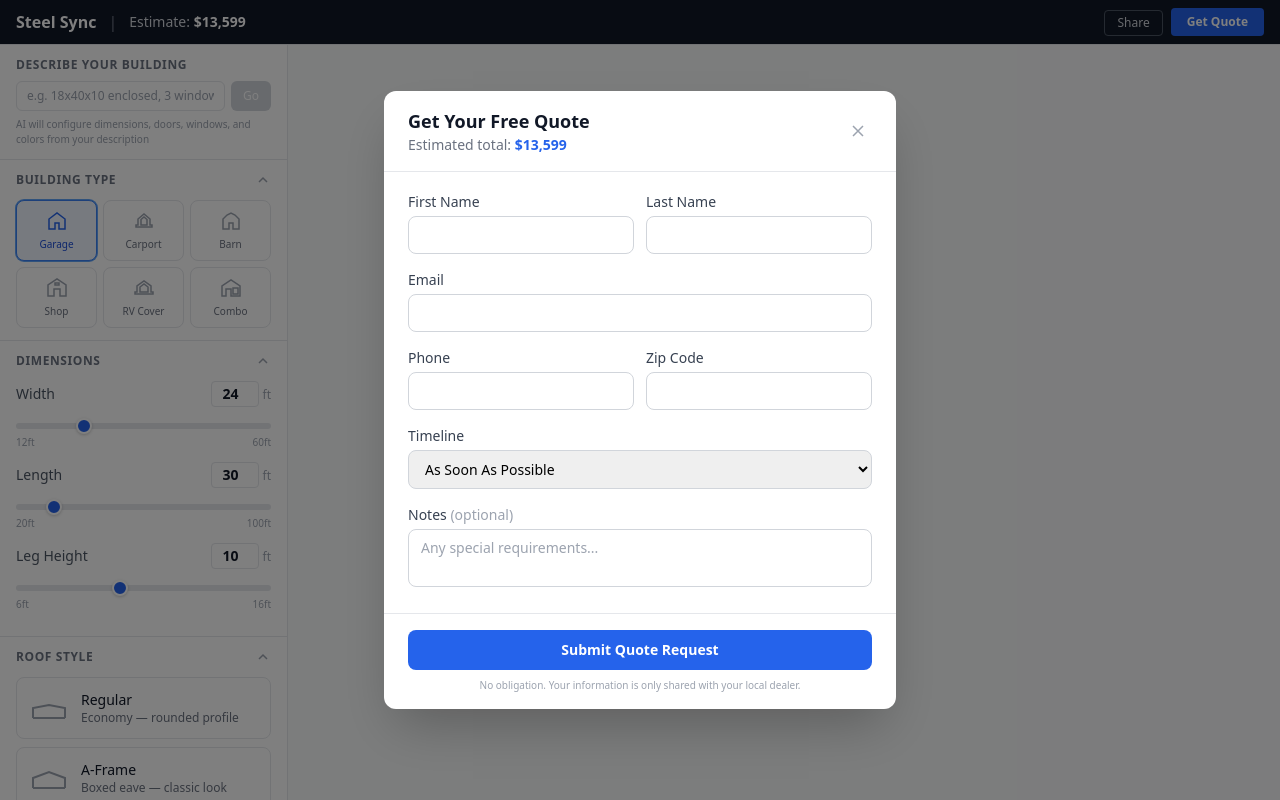
Scenario: BuildingDesigner root: quote modal visibility across a real submission › keeps the form open (no success screen) after a real failure, driven through the actual store + root gating
Step 1. Type "Jane" into the field below "First Name" → (521, 235), box 408,216 -> 634,254
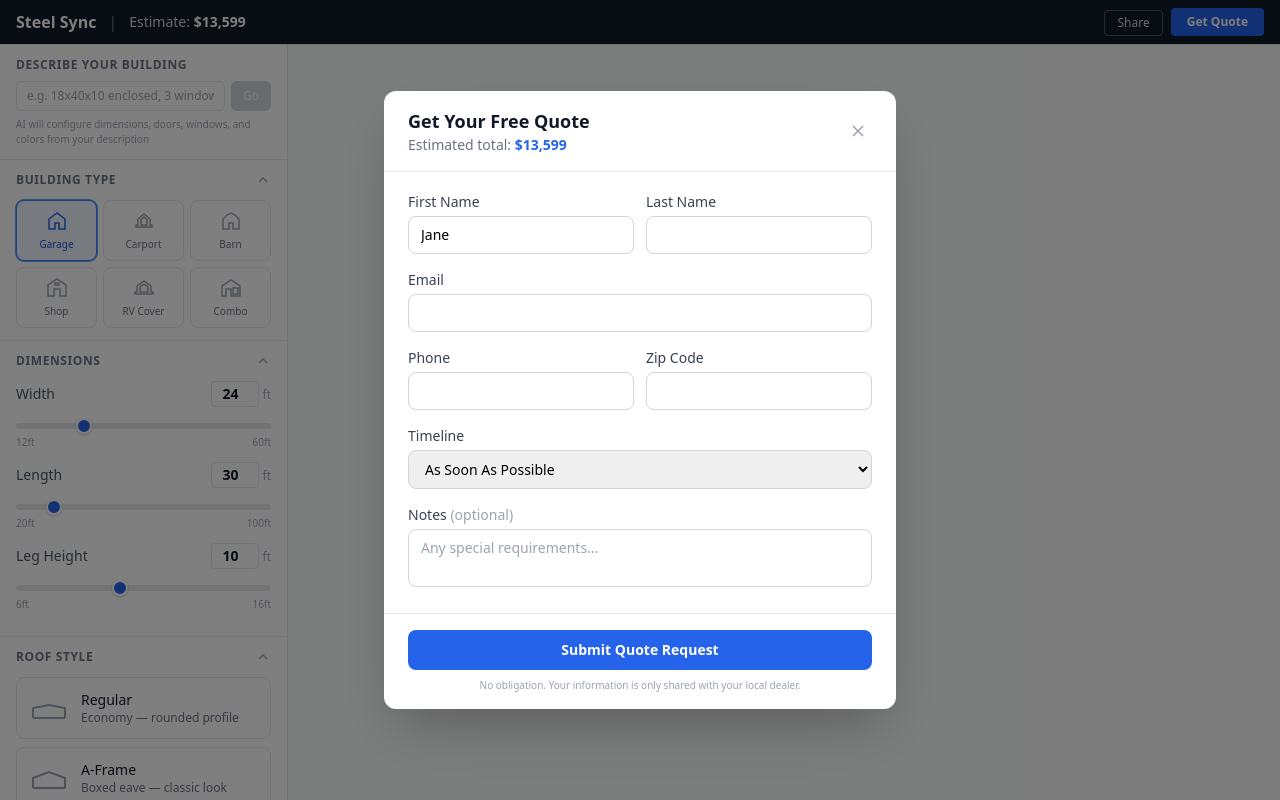
Step 2. Type "Doe" into the field below "Last Name" → (759, 235), box 646,216 -> 872,254
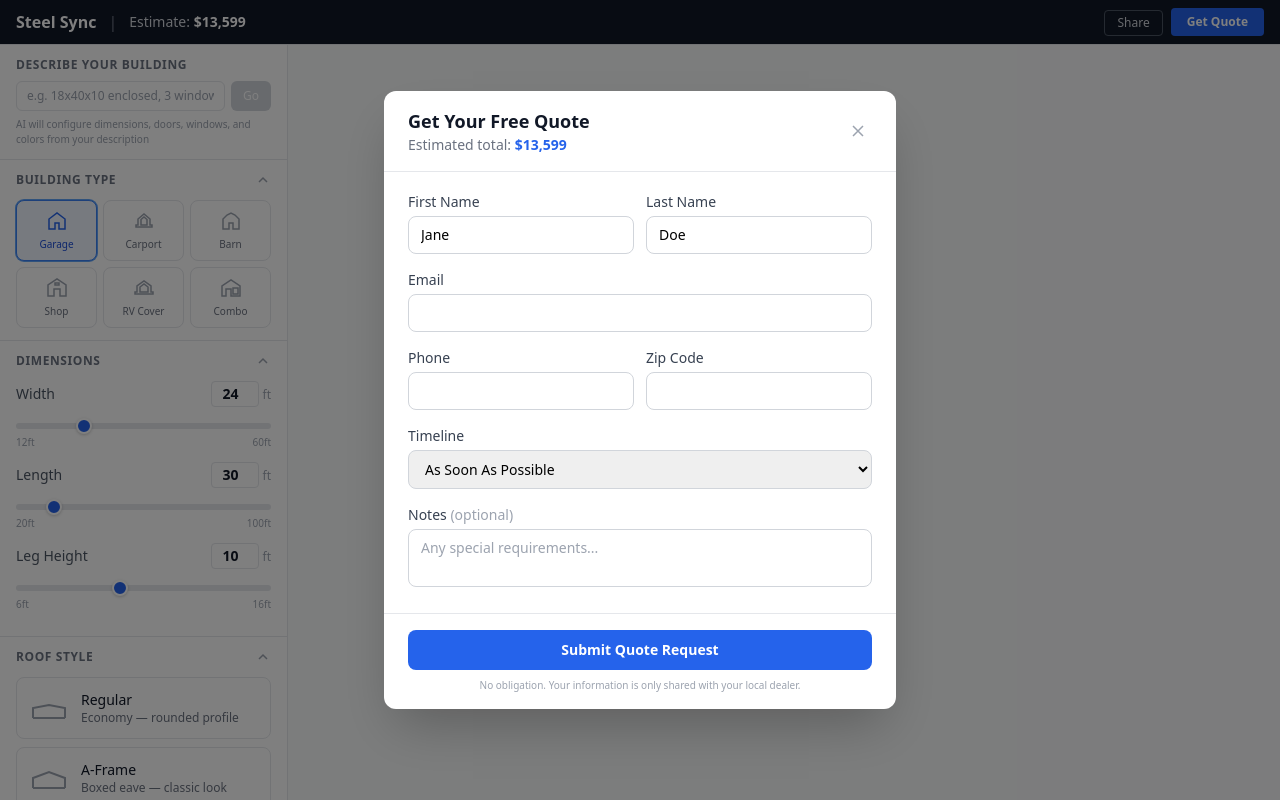
Step 3. Type "jane@example.com" into the field below "Email" → (640, 313), box 408,294 -> 872,332
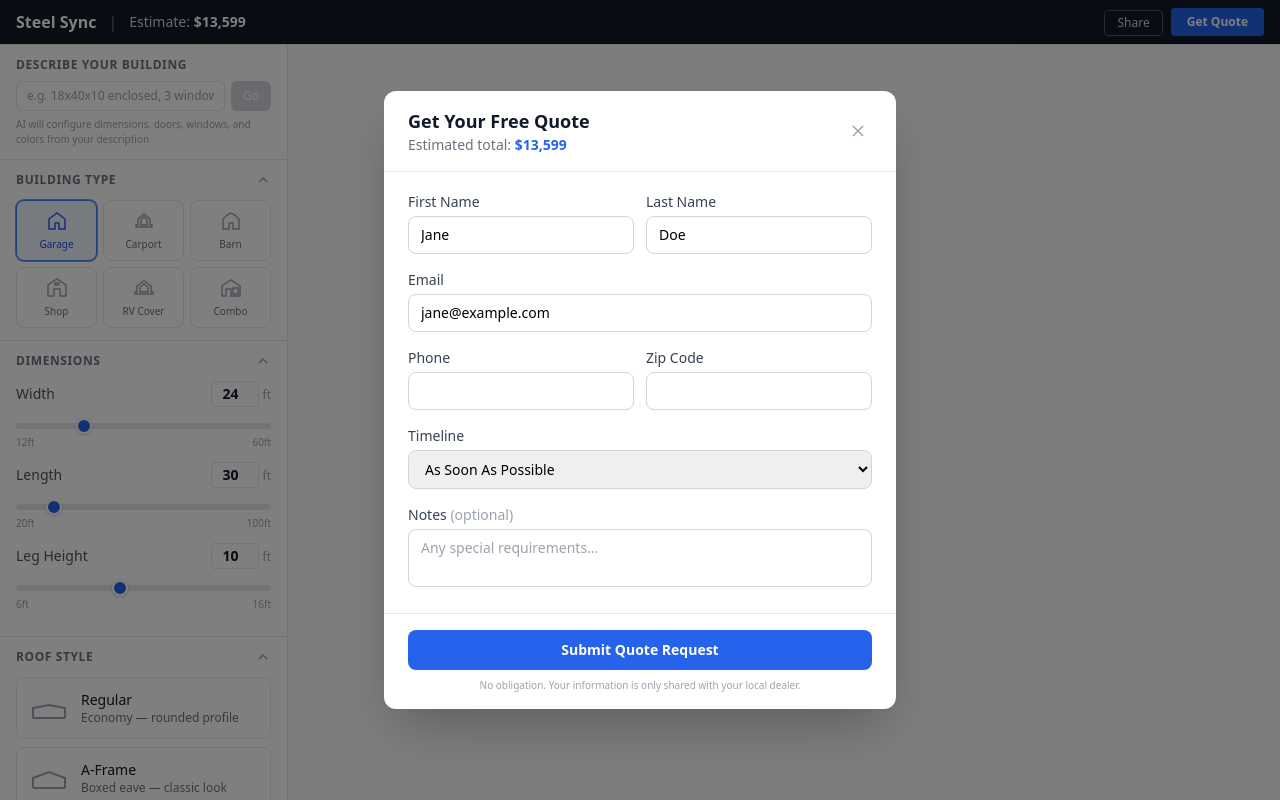
Step 4. Type "5551234567" into the field below "Phone" → (521, 391), box 408,372 -> 634,410
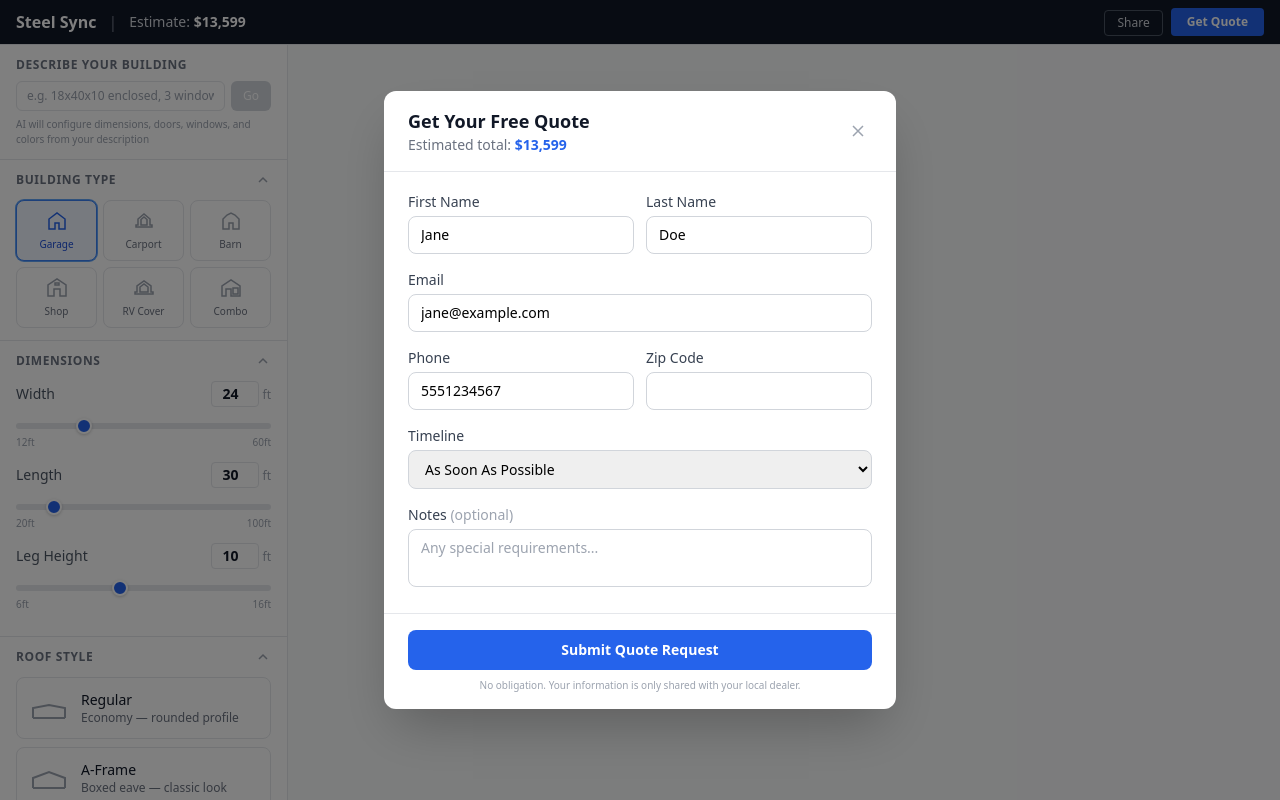
Step 5. Type "75001" into the field below "Zip Code" → (759, 391), box 646,372 -> 872,410
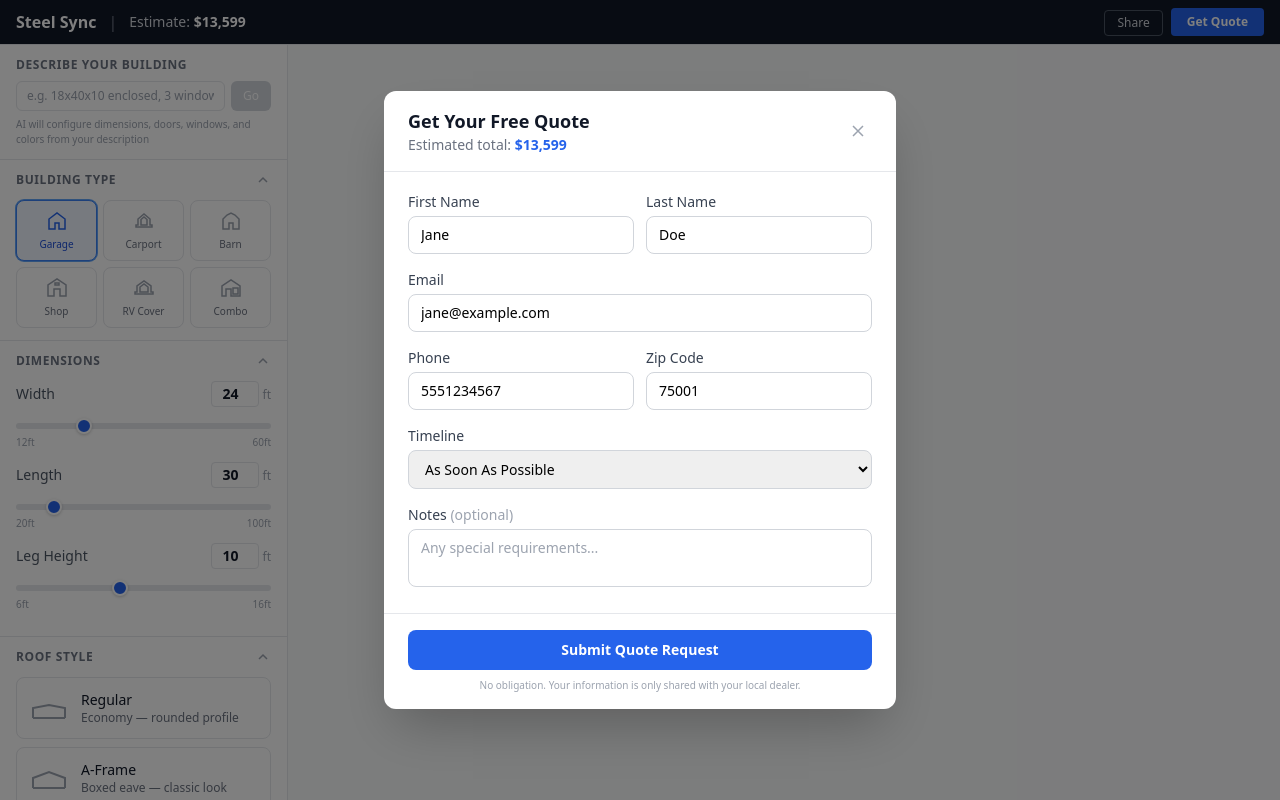
Step 6. Click the button "Submit Quote Request" → (640, 650), box 408,630 -> 872,670
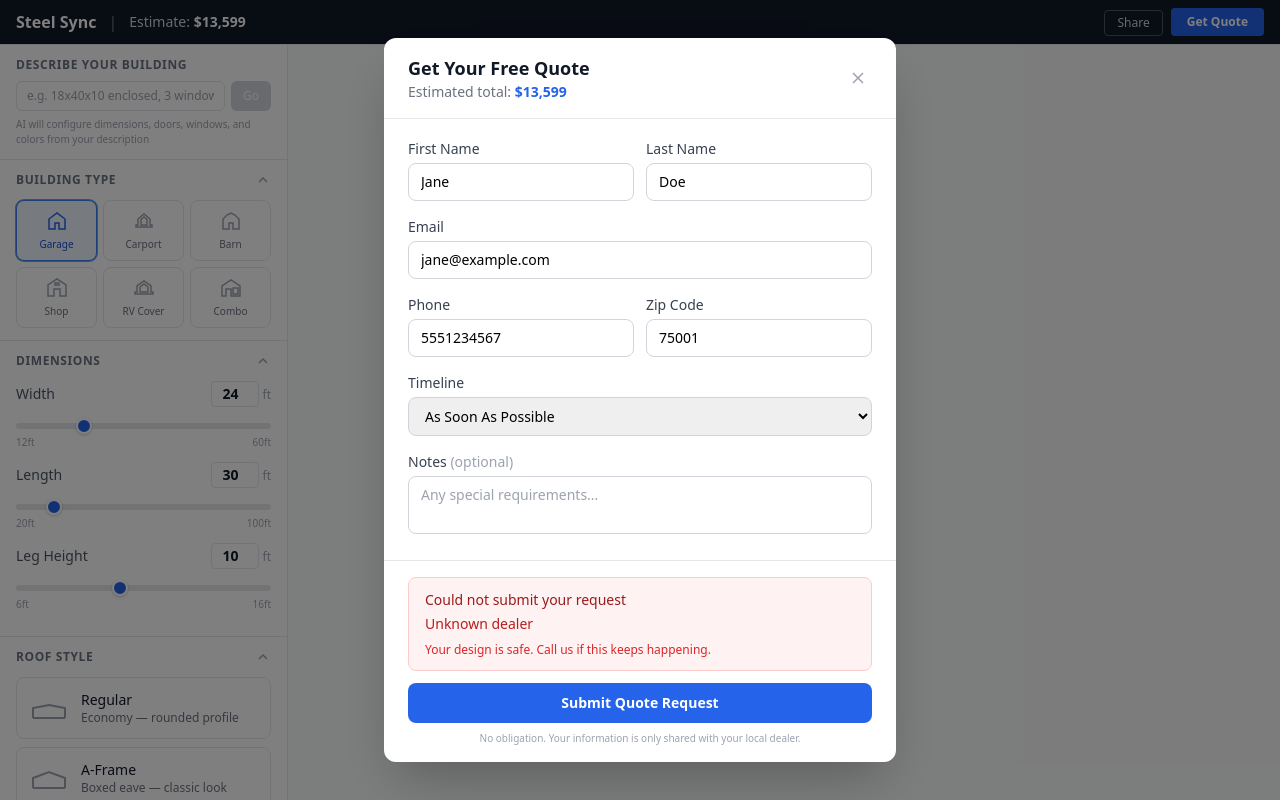
Expected: the button "Submit Quote Request" is shown, 408,683 -> 872,723
Expected: the message is shown, 408,577 -> 872,671
